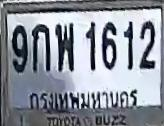1: (85, 22, 96, 71), (123, 21, 133, 70)
2: (139, 20, 155, 69)
6: (101, 22, 117, 70)
9: (11, 25, 27, 72)
A01: (32, 23, 50, 72)
A30: (54, 23, 74, 70)
BKK: (26, 87, 138, 111)
